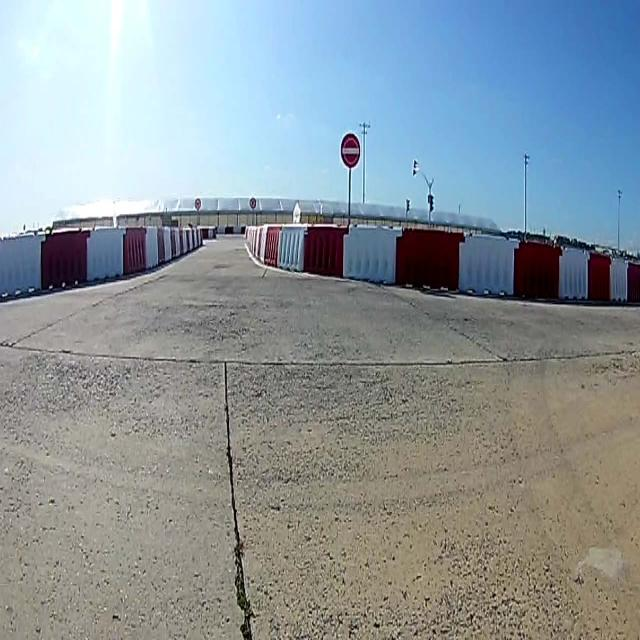girisyok: (342, 136, 360, 164)
